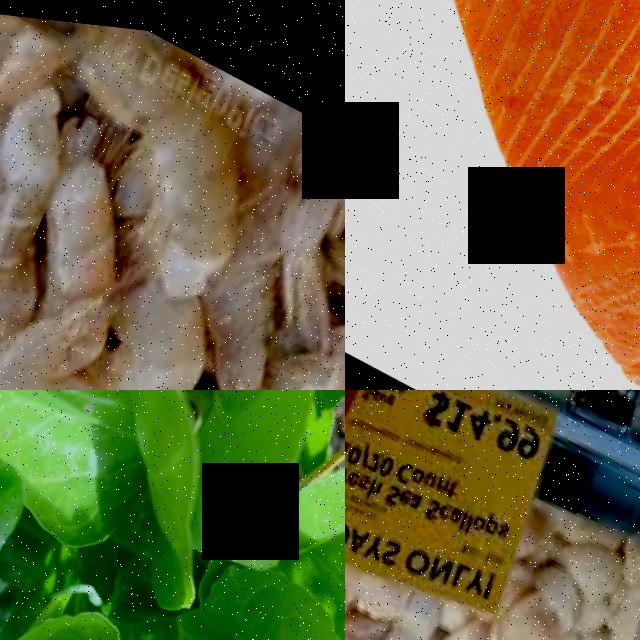salmon: (345, 0, 640, 390)
shrimp: (92, 76, 270, 300), (30, 248, 229, 390), (0, 53, 83, 319), (262, 299, 345, 390)
spinach: (0, 390, 238, 543), (112, 530, 345, 640), (269, 390, 345, 630)
